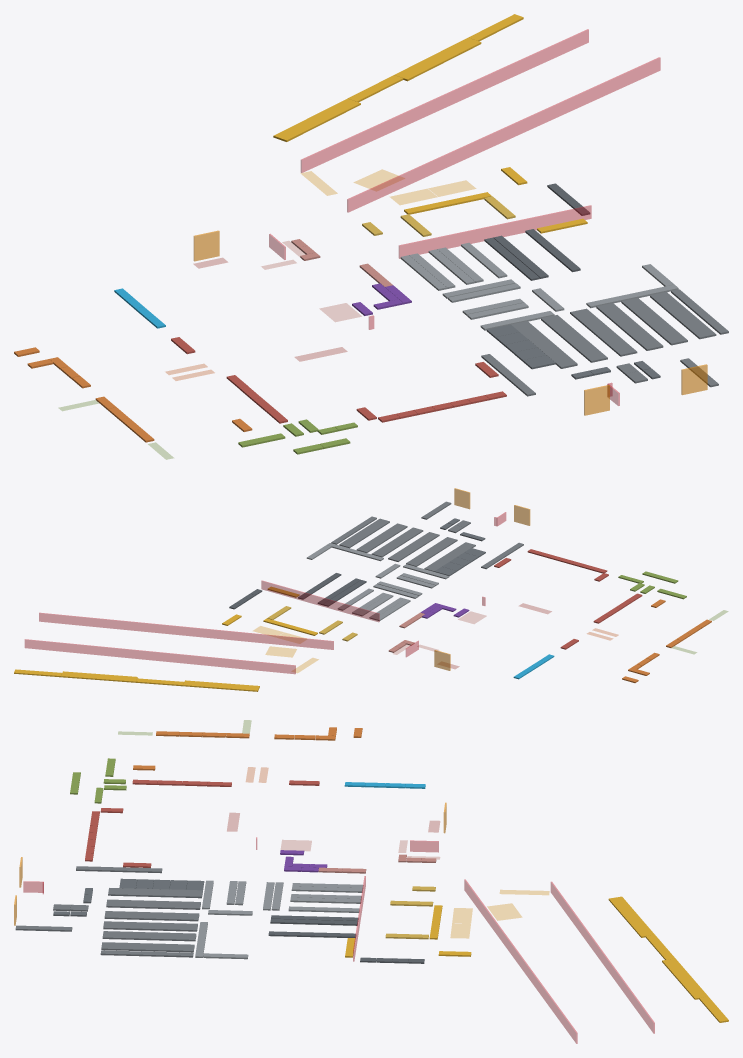
The picture shows the model from 3 angles, top to bottom: view 1: azimuth 30°, elevation 25°; view 2: azimuth 150°, elevation 25°; view 3: azimuth 270°, elevation 25°; orthographic projection. The views are drawn at different scales.
Parts seen in each view (by area): view 1: l3; view 2: l3; view 3: l3.
Part boxes in pixels (left/top/right/bottom): l3: left=14, top=14, right=728, bottom=459; l3: left=14, top=488, right=728, bottom=691; l3: left=14, top=720, right=728, bottom=1043.
Bounding box in the file's own units: 167 × 5 × 156.
